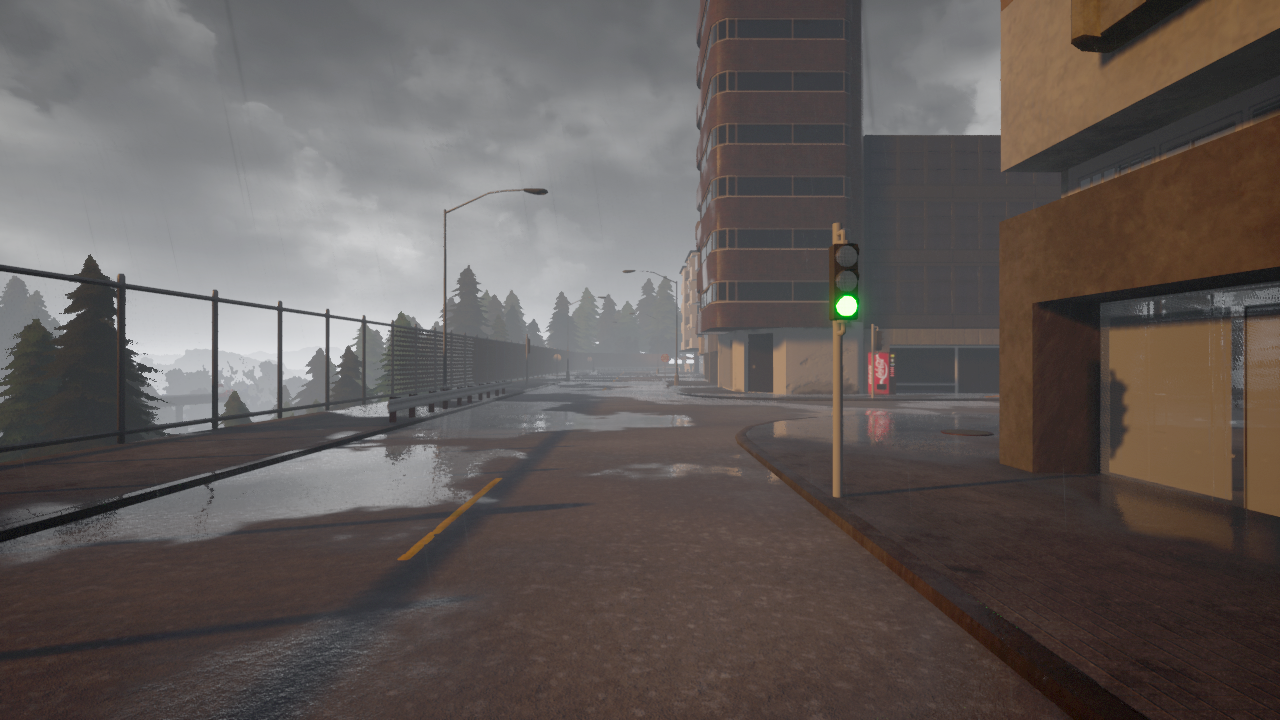green: (827, 240, 860, 322)
